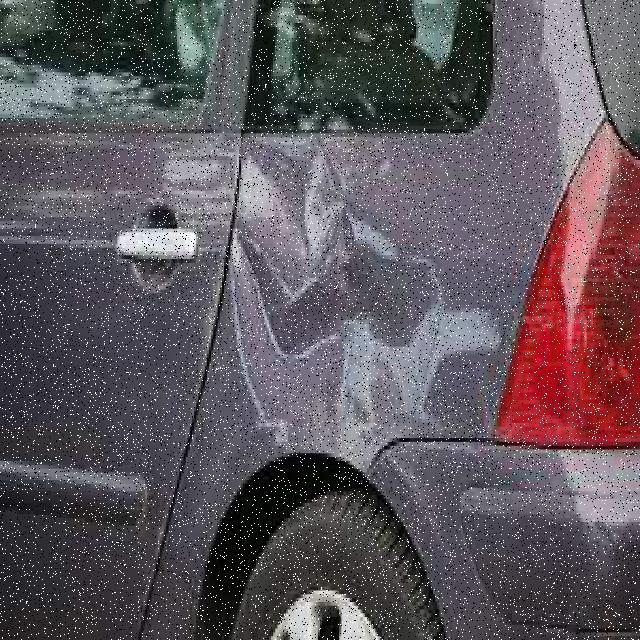quaterpanel-dent: (236, 133, 504, 552)
